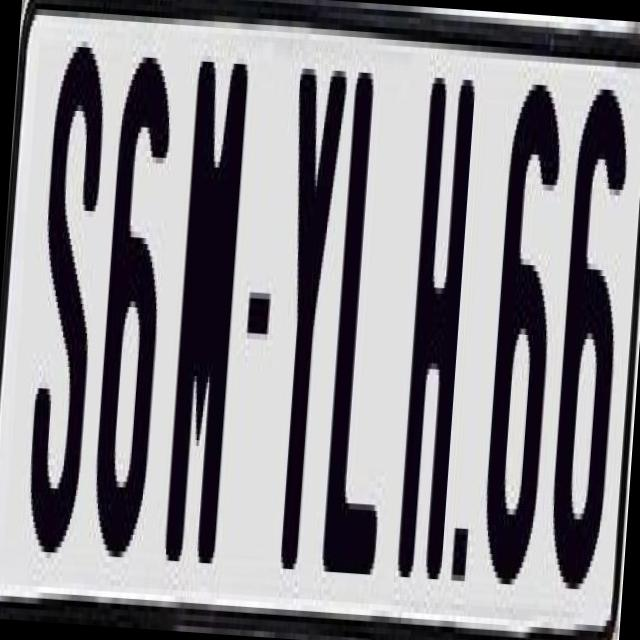6: (542, 87, 633, 619), (90, 44, 176, 570), (476, 65, 562, 591)
H: (396, 71, 479, 574)
L: (318, 55, 406, 562)
M: (163, 44, 250, 558)
S: (22, 39, 114, 554)
Y: (263, 68, 350, 582)
